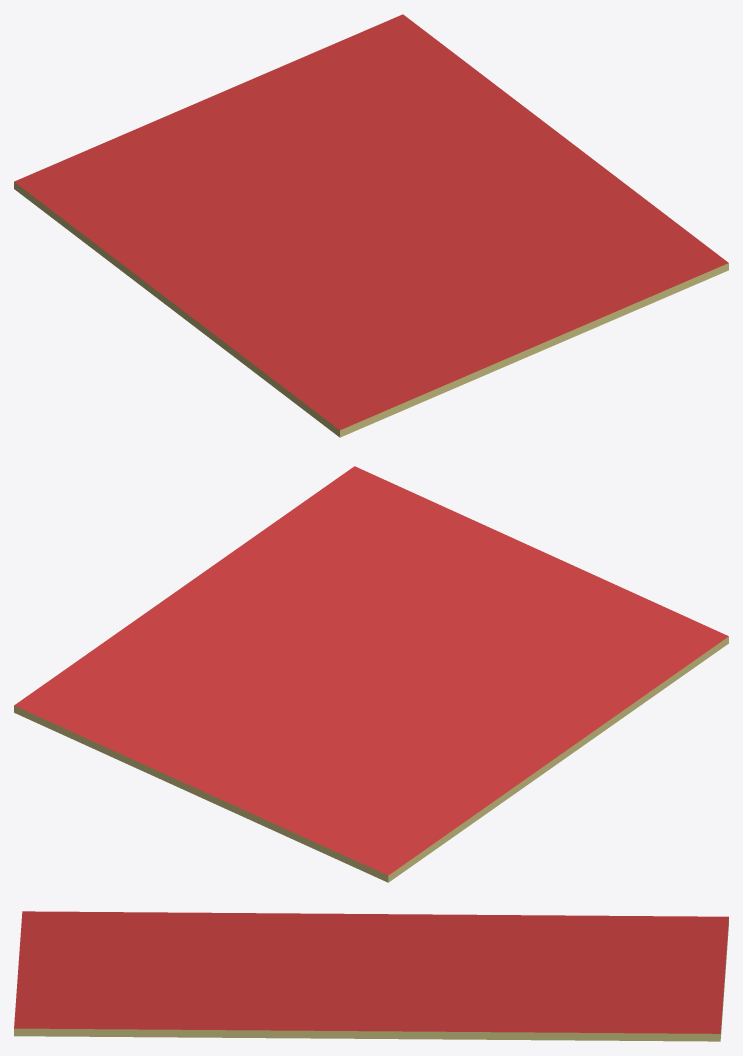
3 views of the same model, one above another, from view 1: azimuth 30°, elevation 25°; view 2: azimuth 150°, elevation 25°; view 3: azimuth 270°, elevation 25° (orthographic). The views are drawn at different scales.
Size of the model in its own units: 5.65 by 8.42 by 1.14.
